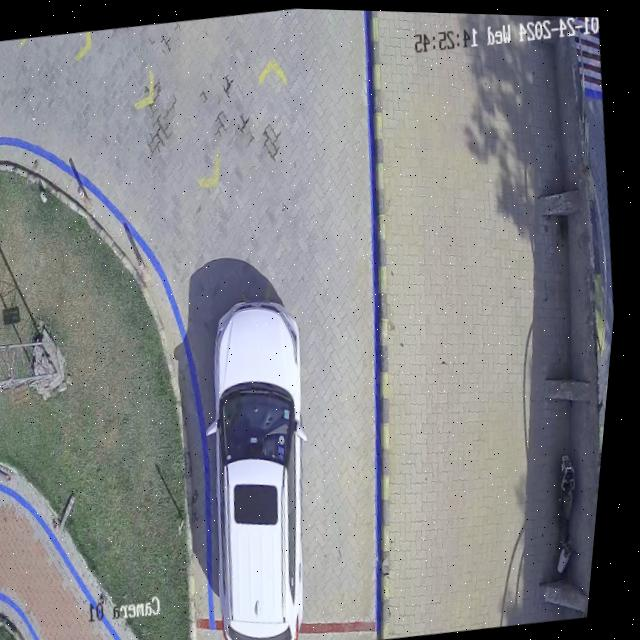car: (215, 299, 315, 640)
